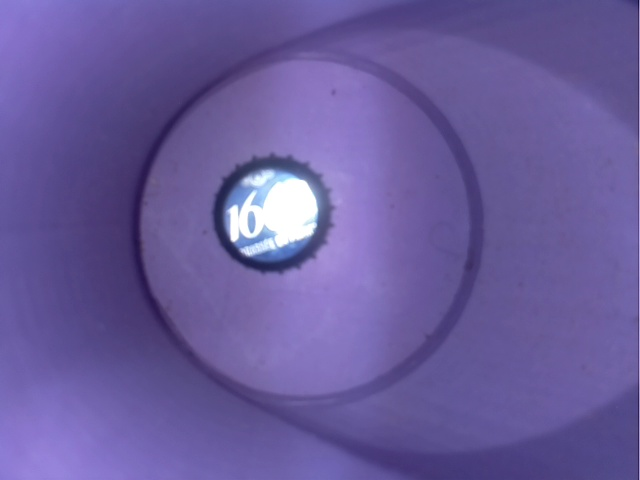capsule: (207, 136, 341, 287)
